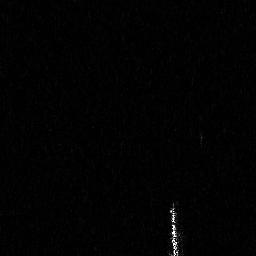ship: (166, 201, 184, 256)
